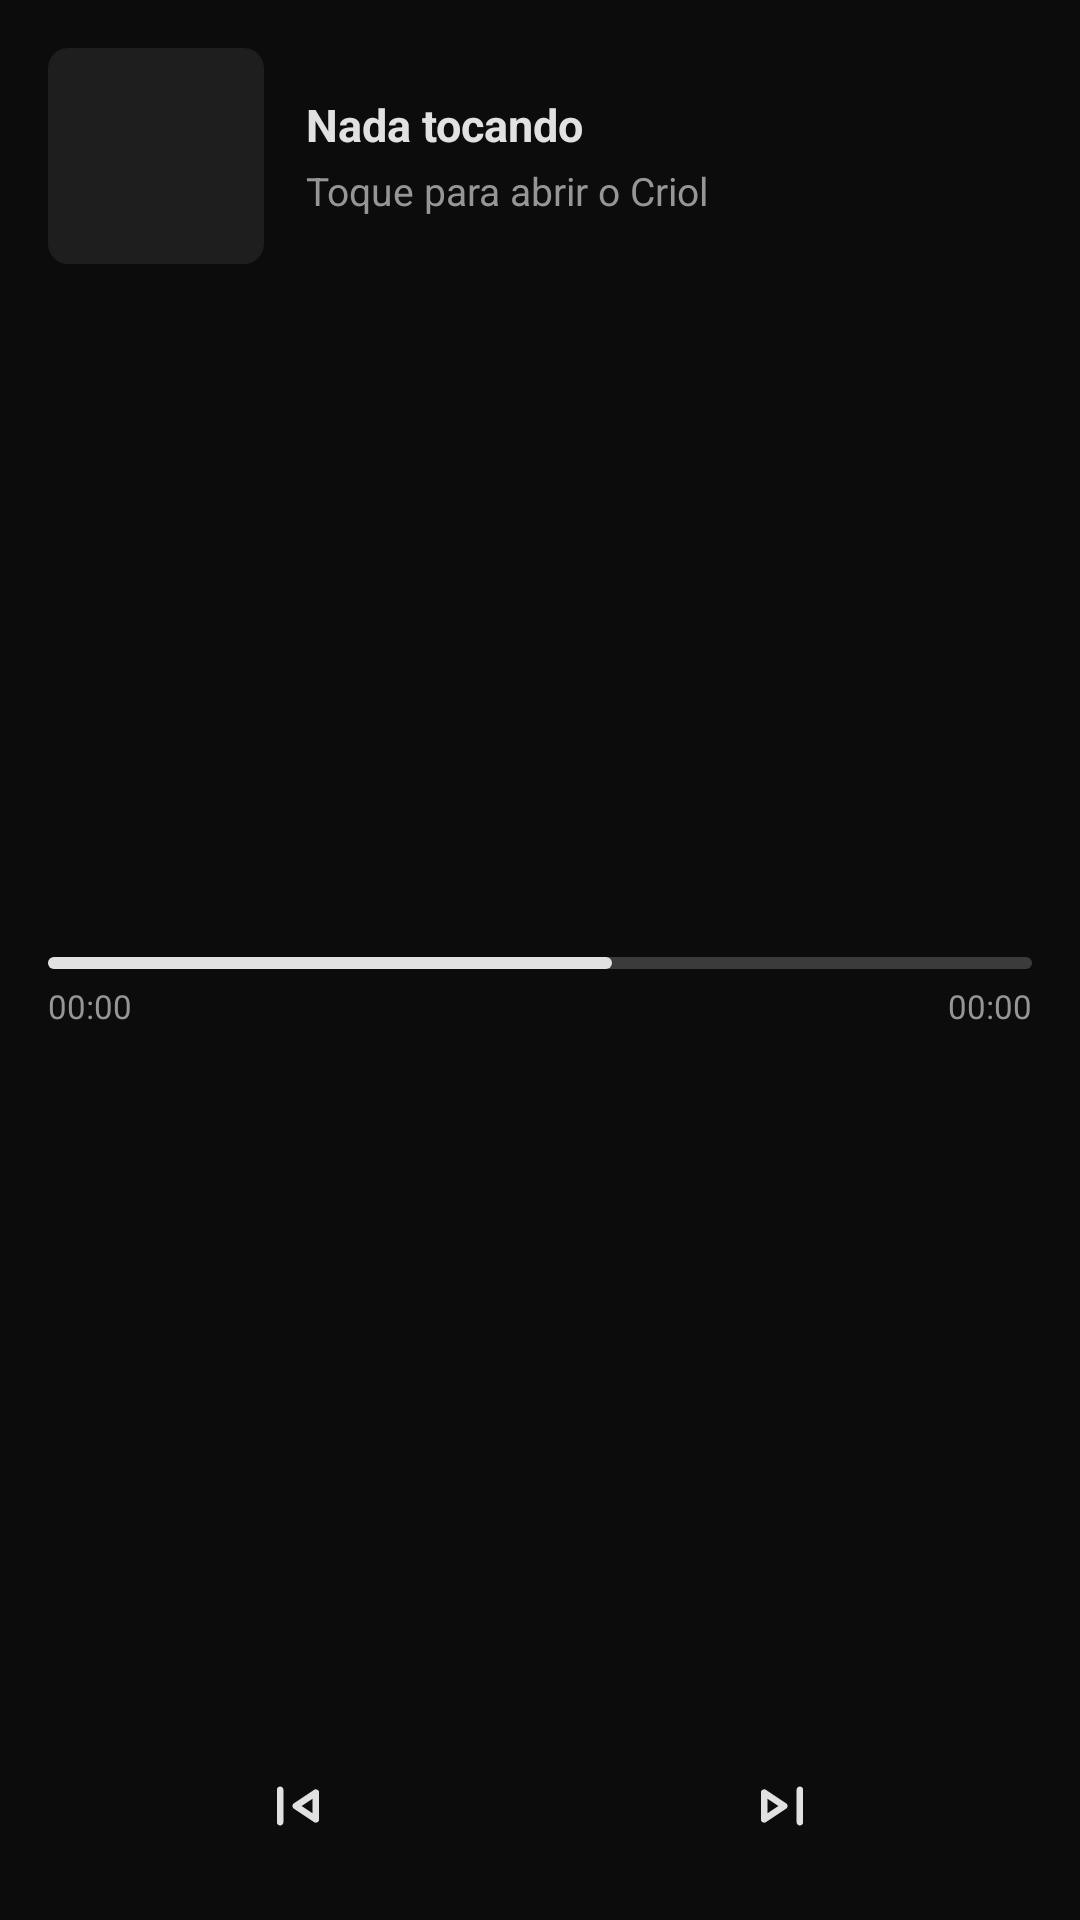

Icons on this 1080w x 1920h Android screen, each with its box as (left=x1, top=y1, right=x2, bottom=y2):
Anterior: (left=277, top=1786, right=319, bottom=1826)
Próxima: (left=761, top=1786, right=803, bottom=1826)
